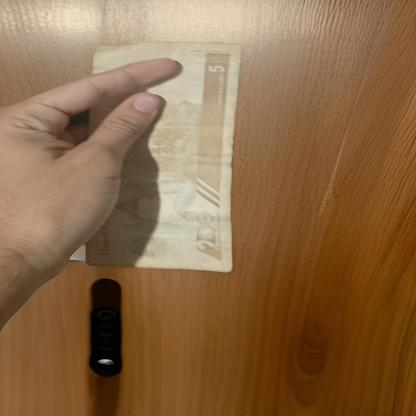five-back-vef: (86, 42, 242, 272)
